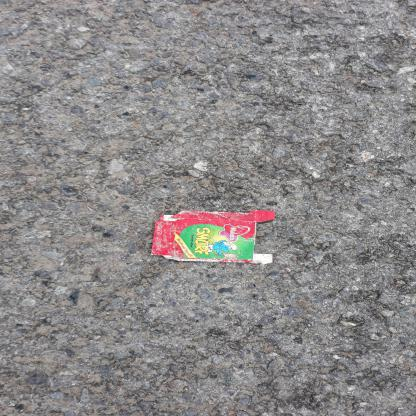karton: (211, 144, 266, 268)
